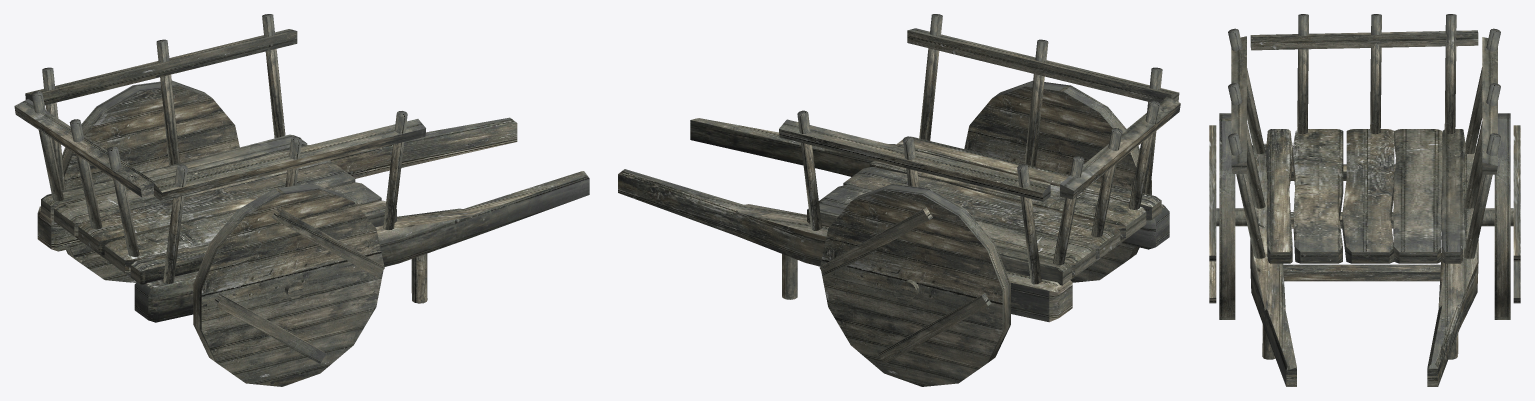
File: Cart.fbx
3 views of the same model, side by side, from view 1: azimuth 30°, elevation 25°; view 2: azimuth 150°, elevation 25°; view 3: azimuth 270°, elevation 25° (orthographic). The views are drawn at different scales.
Parts seen in each view (by area): view 1: cart1; view 2: cart1; view 3: cart1.
Boxes of the visible parts, x1,y1,x2,y2 form: cart1: [14, 14, 589, 386]; cart1: [618, 14, 1180, 386]; cart1: [1209, 14, 1520, 386].
Size of the model in its own units: 93.91 by 44.74 by 54.49.
1 material, 1 textured.
